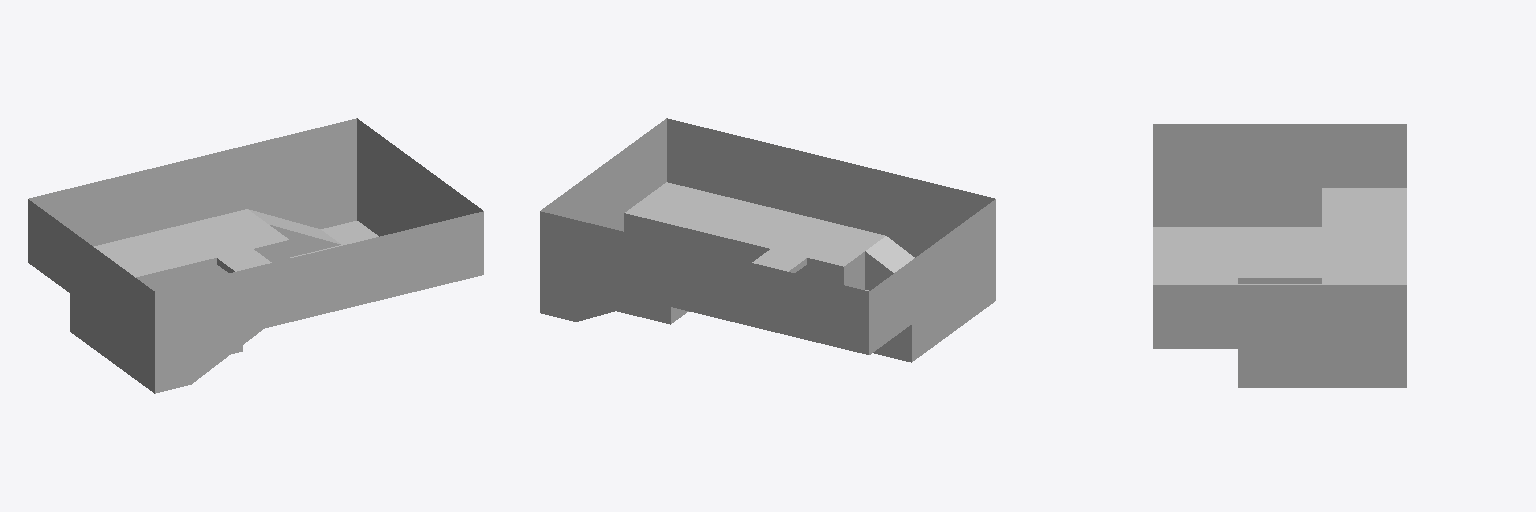
File: ArenaCollisionPaint.obj
The picture shows the model from 3 angles: view 1: azimuth 30°, elevation 25°; view 2: azimuth 150°, elevation 25°; view 3: azimuth 270°, elevation 25°; orthographic projection.
Visible parts, largest first — view 1: Plane; view 2: Plane; view 3: Plane.
Boxes of the visible parts, box(x1,y1,x2,y2) form: Plane: box(28, 118, 483, 393); Plane: box(540, 118, 995, 362); Plane: box(1153, 124, 1406, 387).
Size of the model in its own units: 27 by 8 by 18.